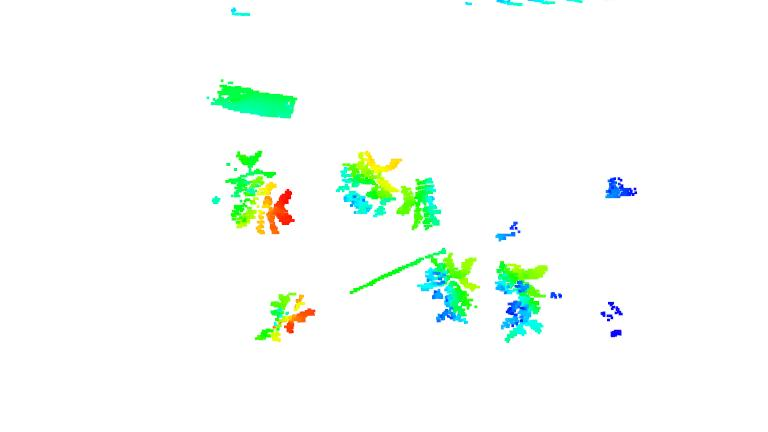chickpea: (224, 149, 297, 237), (491, 260, 557, 340), (333, 149, 402, 218), (418, 251, 480, 326), (252, 287, 320, 345), (396, 172, 444, 232)
